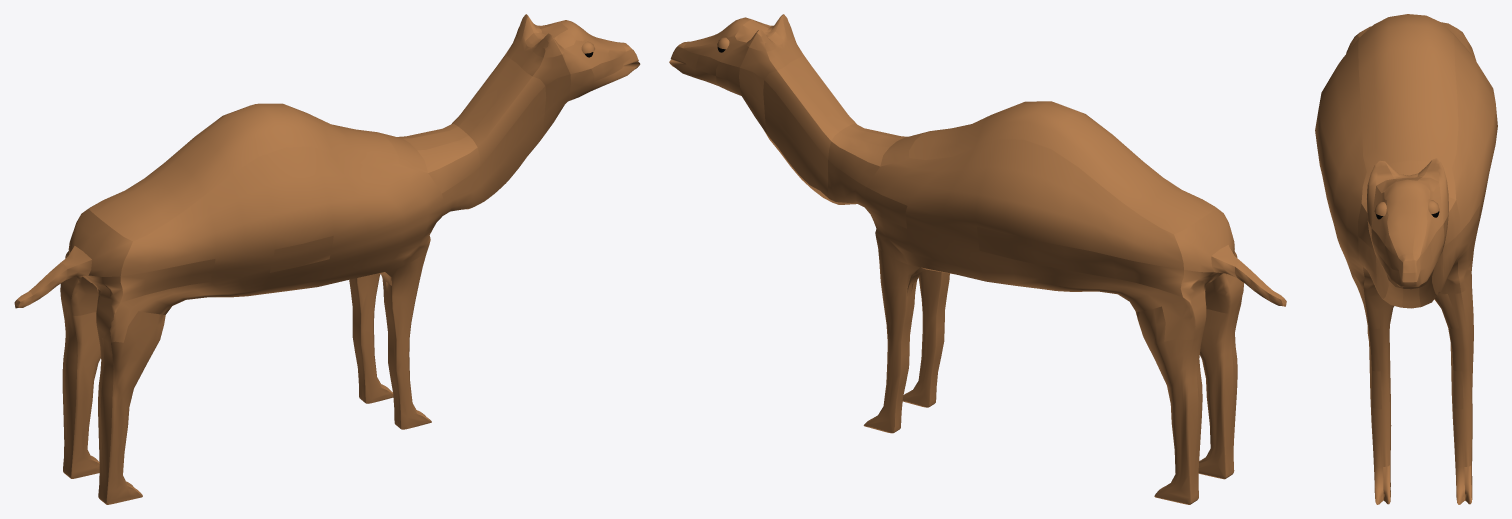
The model's file is camel.glb.
3 renders of one model, left to right at view 1: azimuth 30°, elevation 25°; view 2: azimuth 150°, elevation 25°; view 3: azimuth 270°, elevation 25°, orthographic. The views are drawn at different scales.
Parts seen in each view (by area): view 1: Box006; view 2: Box006; view 3: Box006.
Part boxes in pixels (x1=…): Box006: x1=14, y1=14, x2=640, y2=504; Box006: x1=669, y1=14, x2=1286, y2=504; Box006: x1=1315, y1=14, x2=1497, y2=504.
Bounding box in the file's own units: 112 × 62.42 × 24.85.
